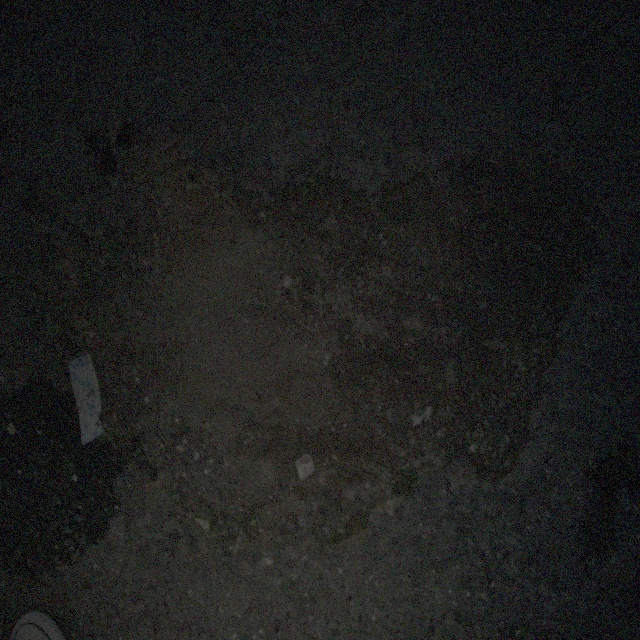pothole: (42, 116, 604, 557)
